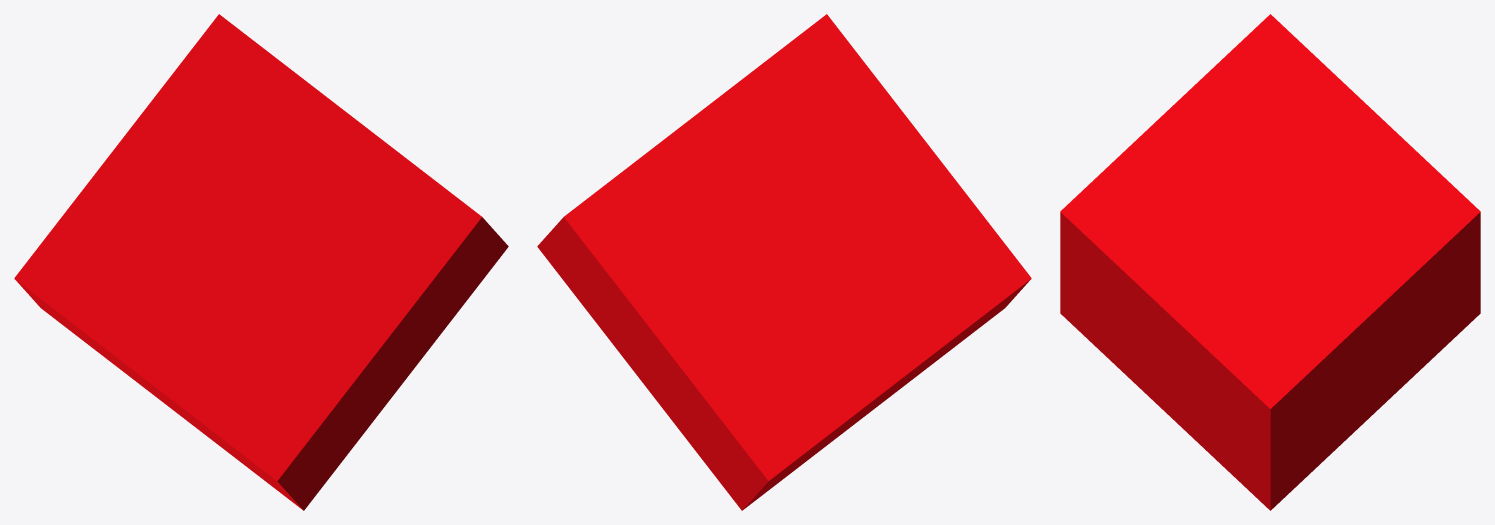
File: wuerfel_marin_2726.glb
3 views of the same model, side by side, from view 1: azimuth 30°, elevation 25°; view 2: azimuth 150°, elevation 25°; view 3: azimuth 270°, elevation 25° (orthographic). The views are drawn at different scales.
Visible parts, largest first — view 1: pCubeShape1; view 2: pCubeShape1; view 3: pCubeShape1.
Boxes of the visible parts, x1,y1,x2,y2 form: pCubeShape1: (14,14,508,510); pCubeShape1: (537,14,1031,510); pCubeShape1: (1060,14,1480,510).
Bounding box in the file's own units: 0.4065 × 0.4065 × 0.3367.
